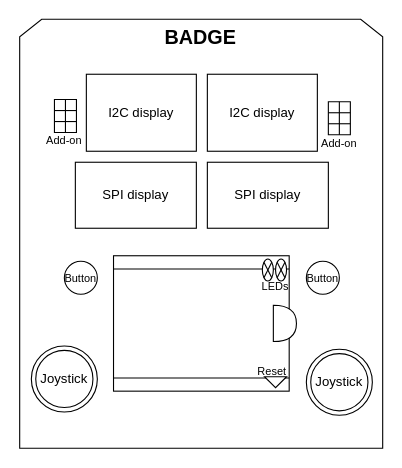
Image size: 402x468. Some labels were removed from this diagram. Each missing label, with the box of its shape:
ESP32 board: (112, 255, 289, 391)
USB: (272, 304, 296, 342)
